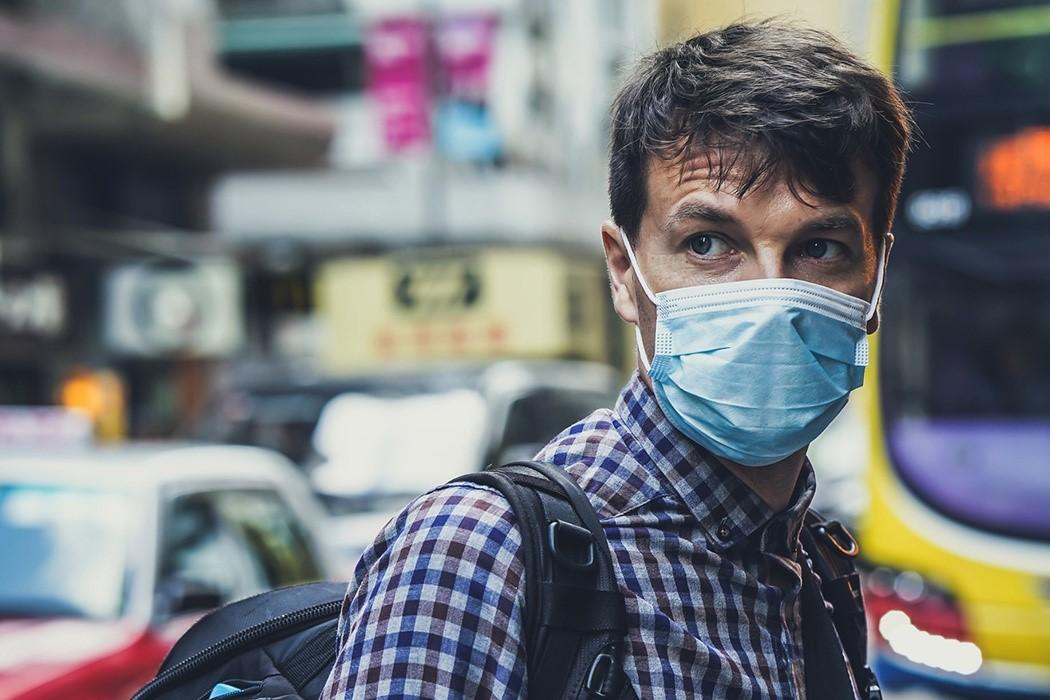face_with_mask: (603, 19, 901, 471)
